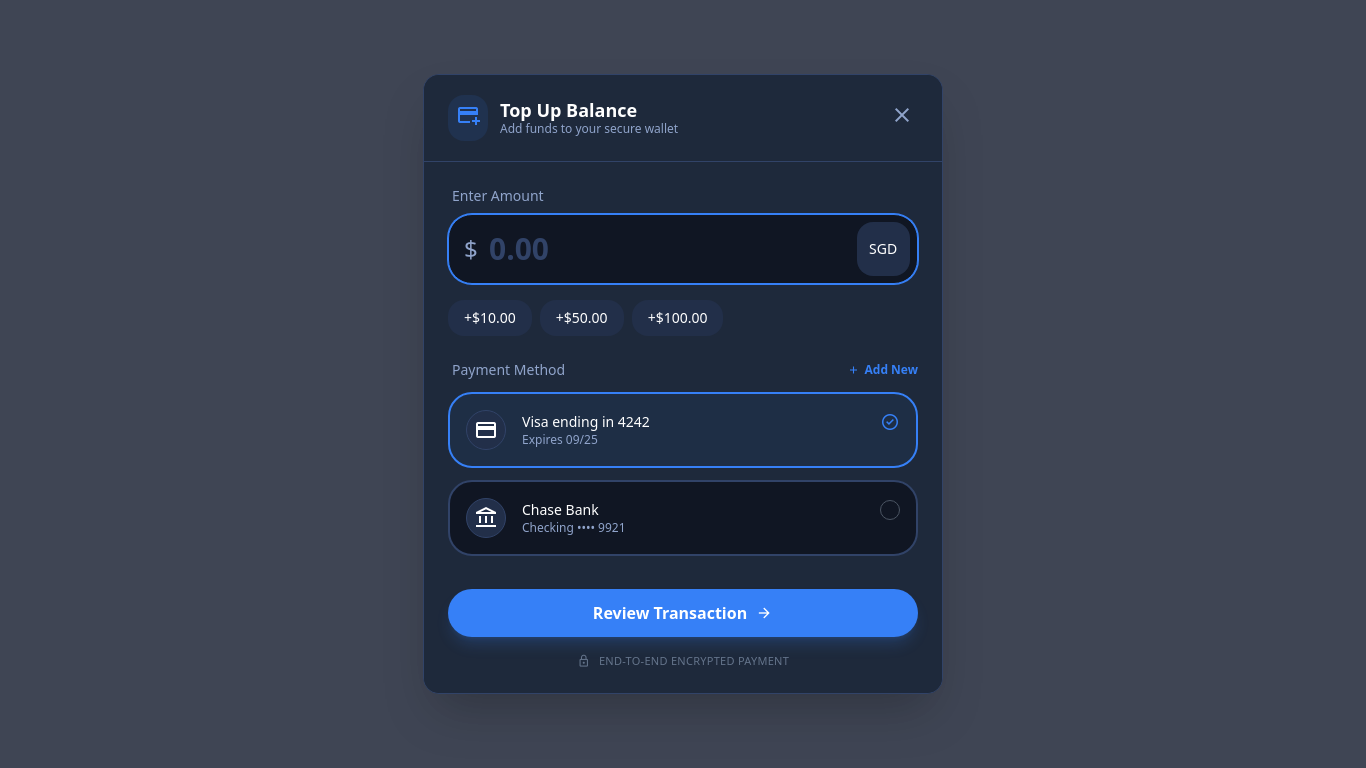
Test: TopUpModal › Amount Validation › should display error for zero amount
The image size is (1366, 768).
Type "0" into the number field with placeholder "0.00".
click(683, 249); type("0")  # box [448,214,918,284]
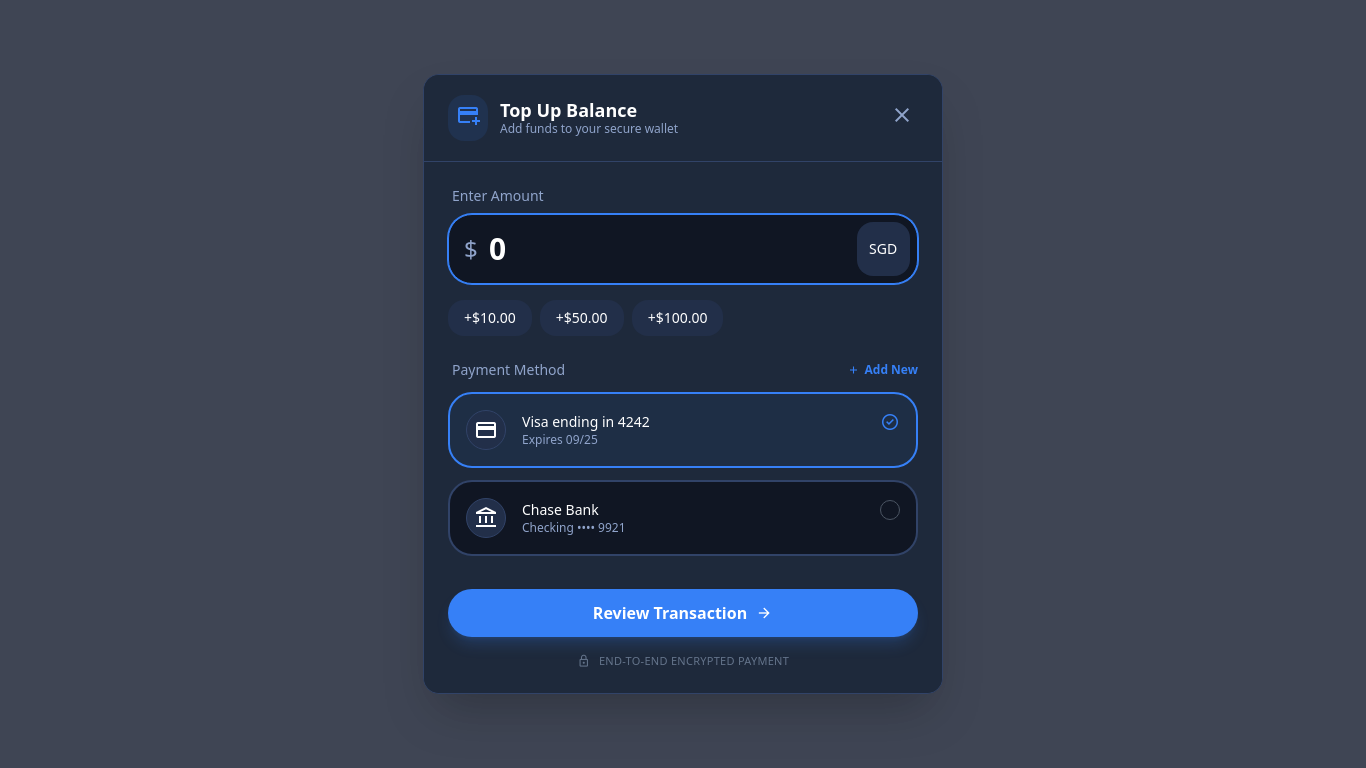
Click the button "Review Transaction".
click(683, 613)  # box [448,589,918,637]
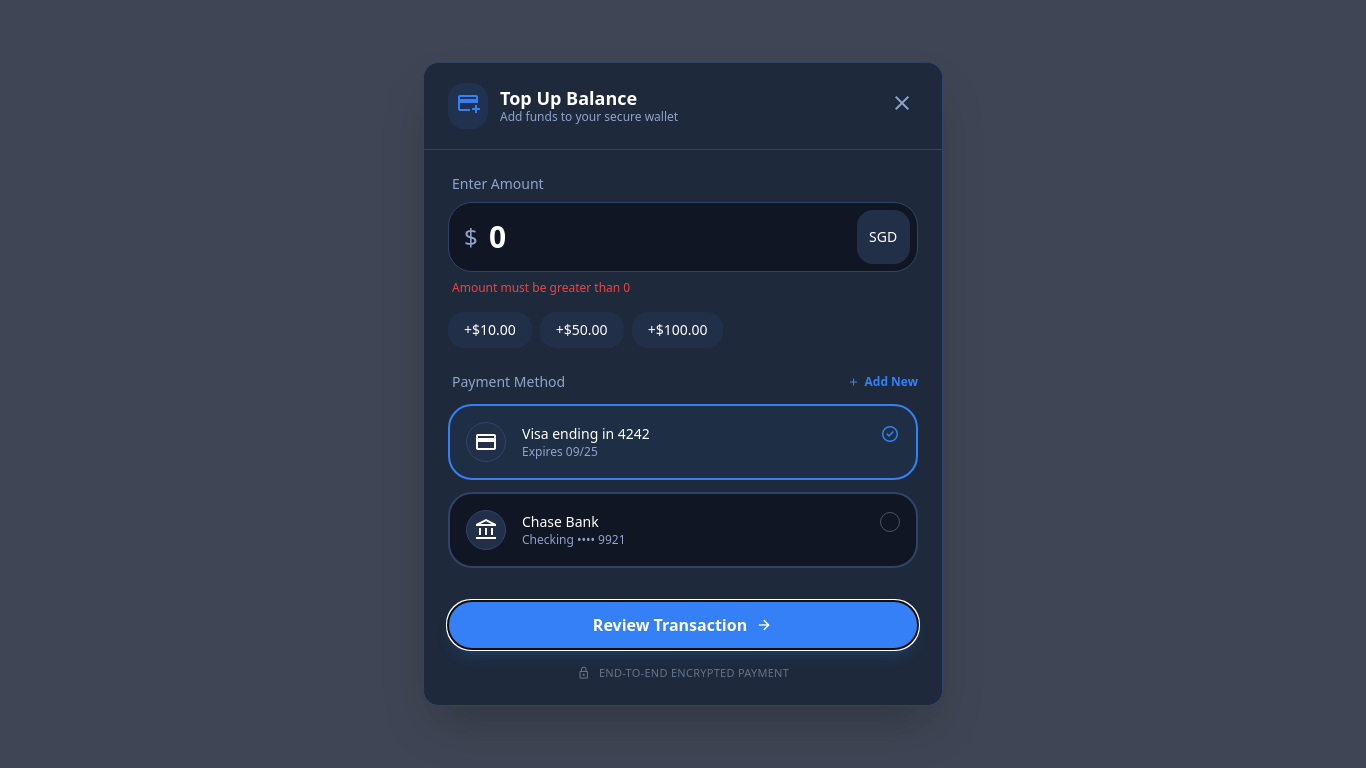
Expected: the text "Amount must be greater than 0" is shown, [452,279,630,296]
